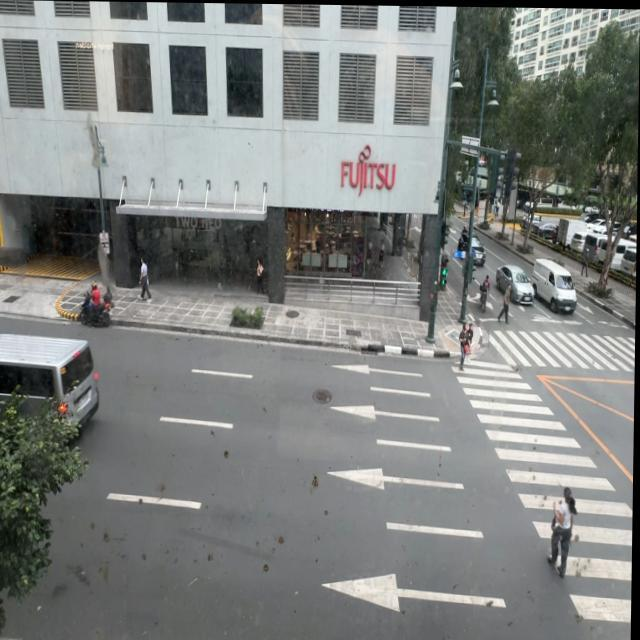jaywalking: (498, 282, 511, 324)
